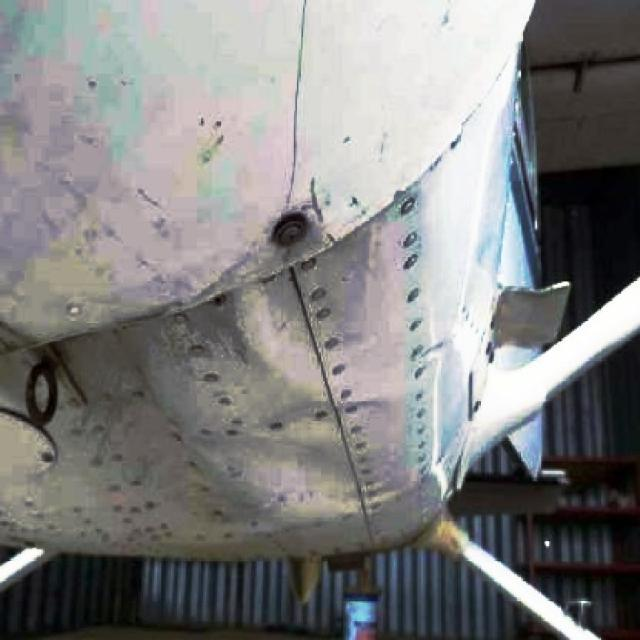dent: (238, 222, 386, 398), (244, 410, 364, 512)
